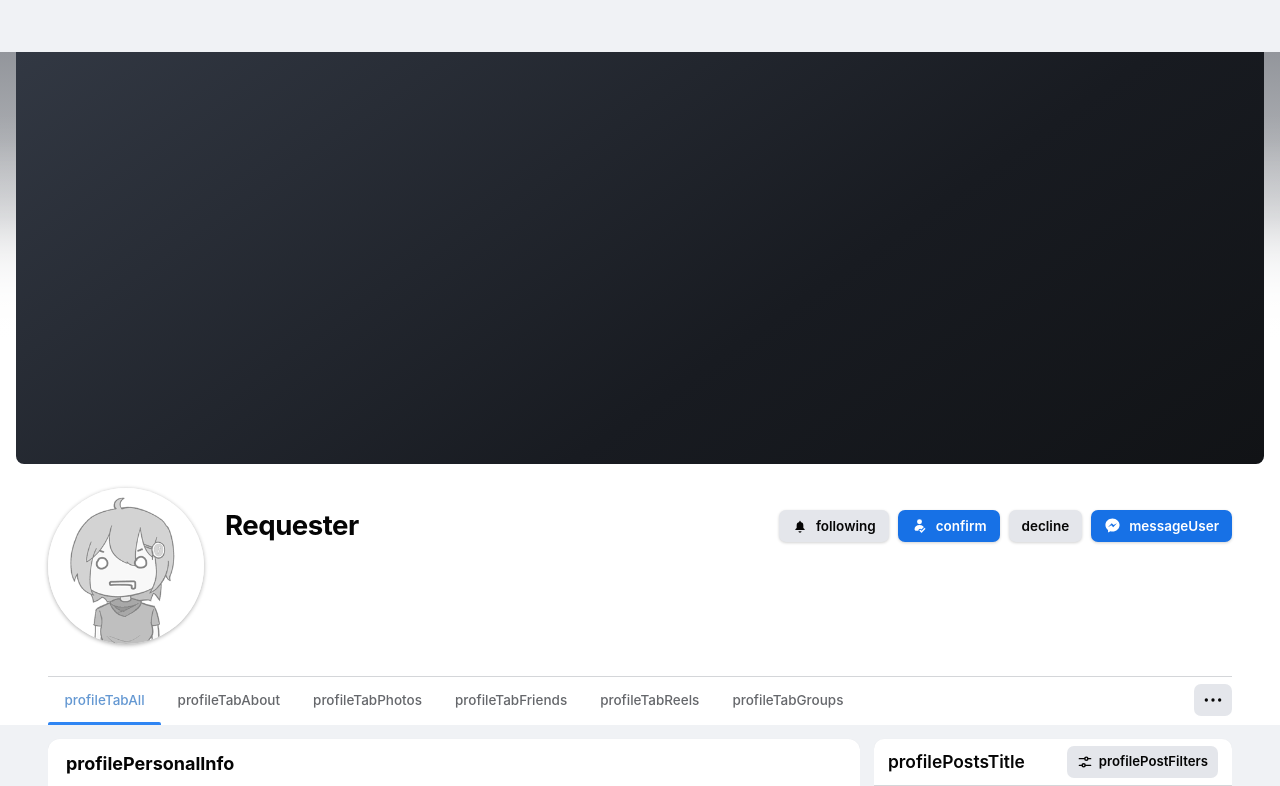
ProfilePage messaging › removes the following presentation as soon as an incoming request becomes a friendship
The image size is (1280, 786).
Expected: the button "following" is shown, [779,510,889,542]
Click the button "confirm" at (949, 526), box [898,510,1000,542]
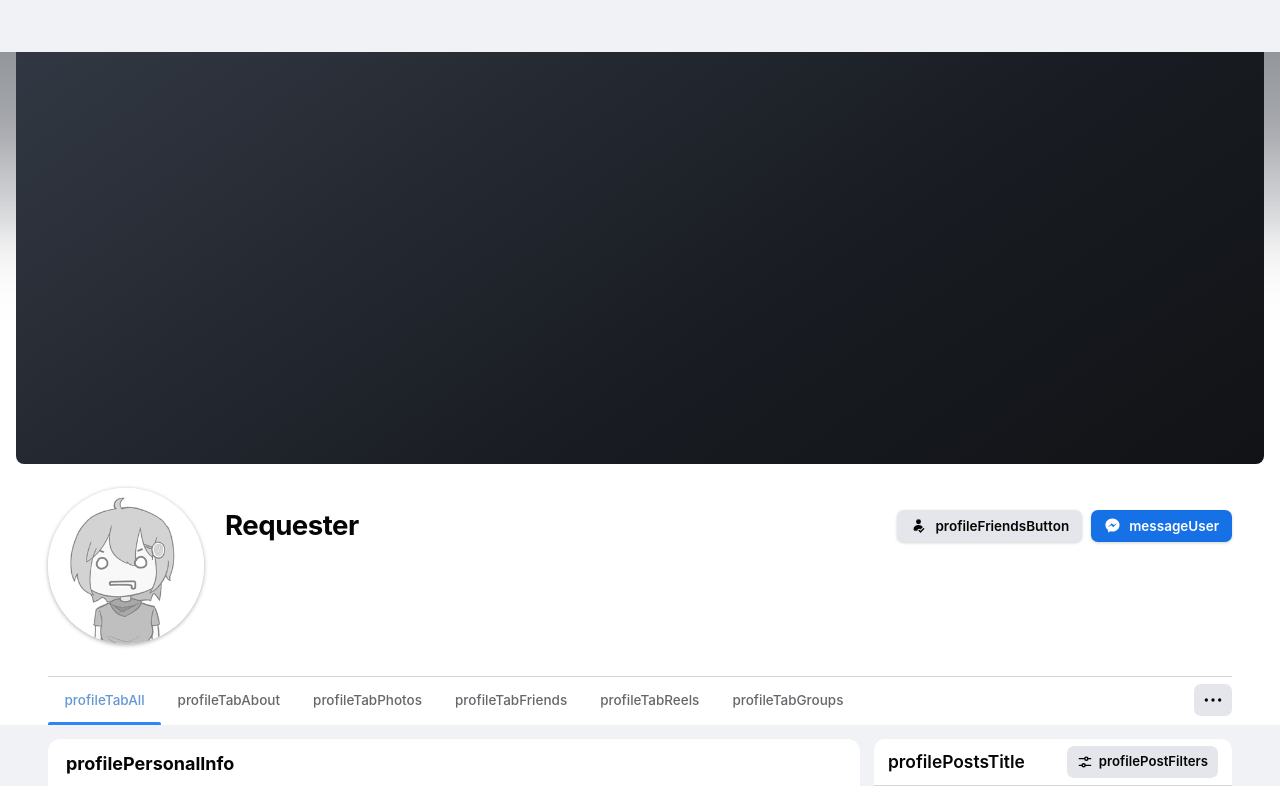
Expected: the button "profileFriendsButton" is shown, [897,510,1082,542]
Expected: the button "following" is gone
Expected: the button "follow" is gone
